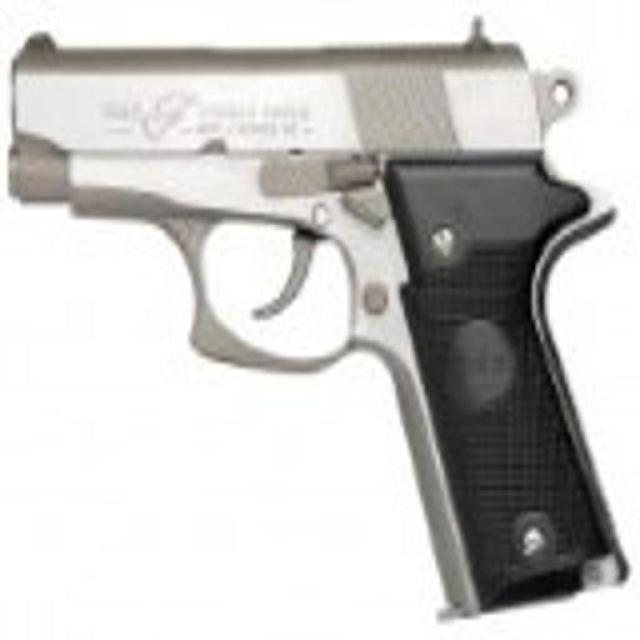pistol: (4, 15, 620, 607)
